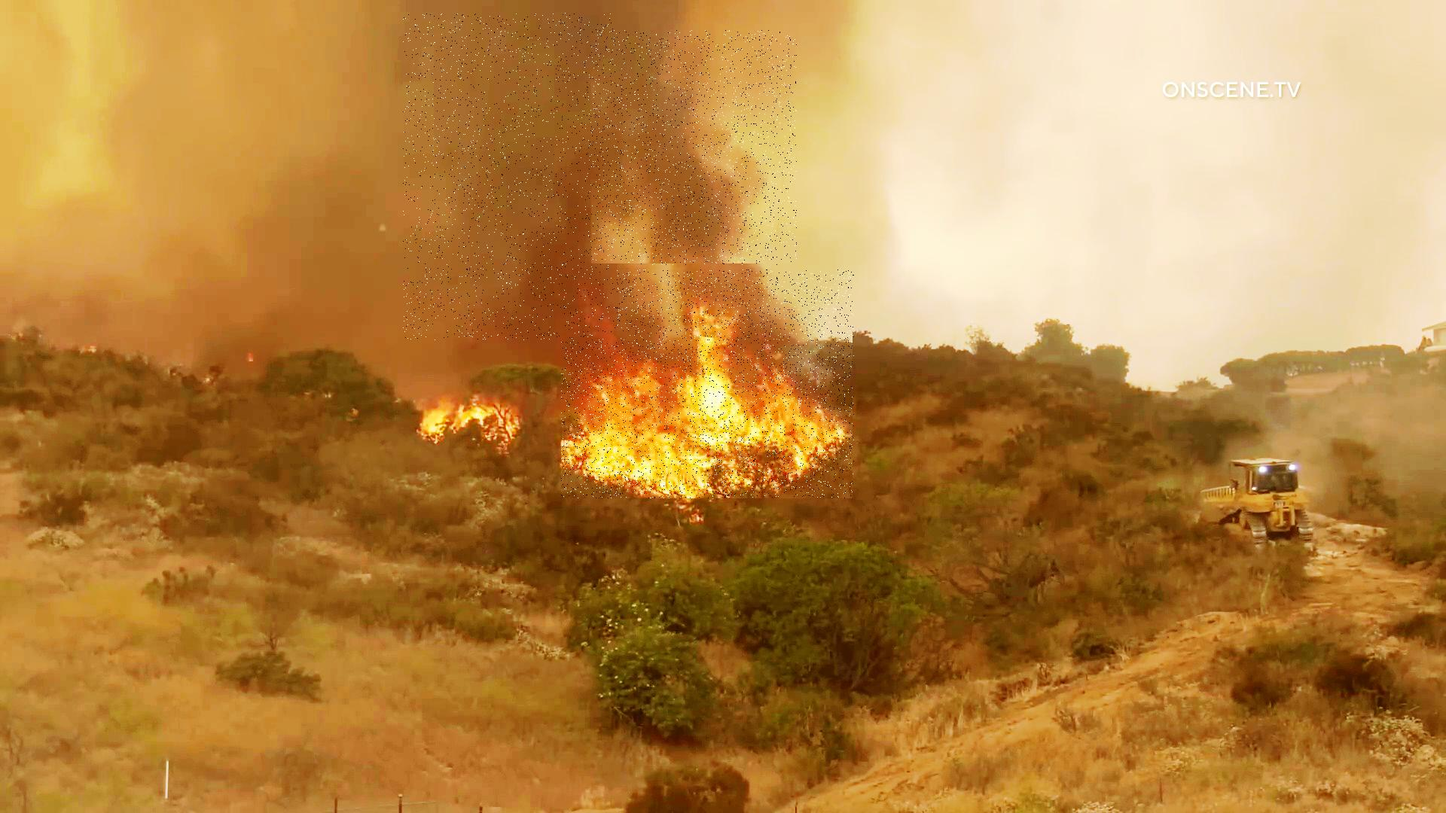fire: (562, 270, 855, 499)
smoke: (403, 13, 617, 341), (591, 31, 797, 265)
